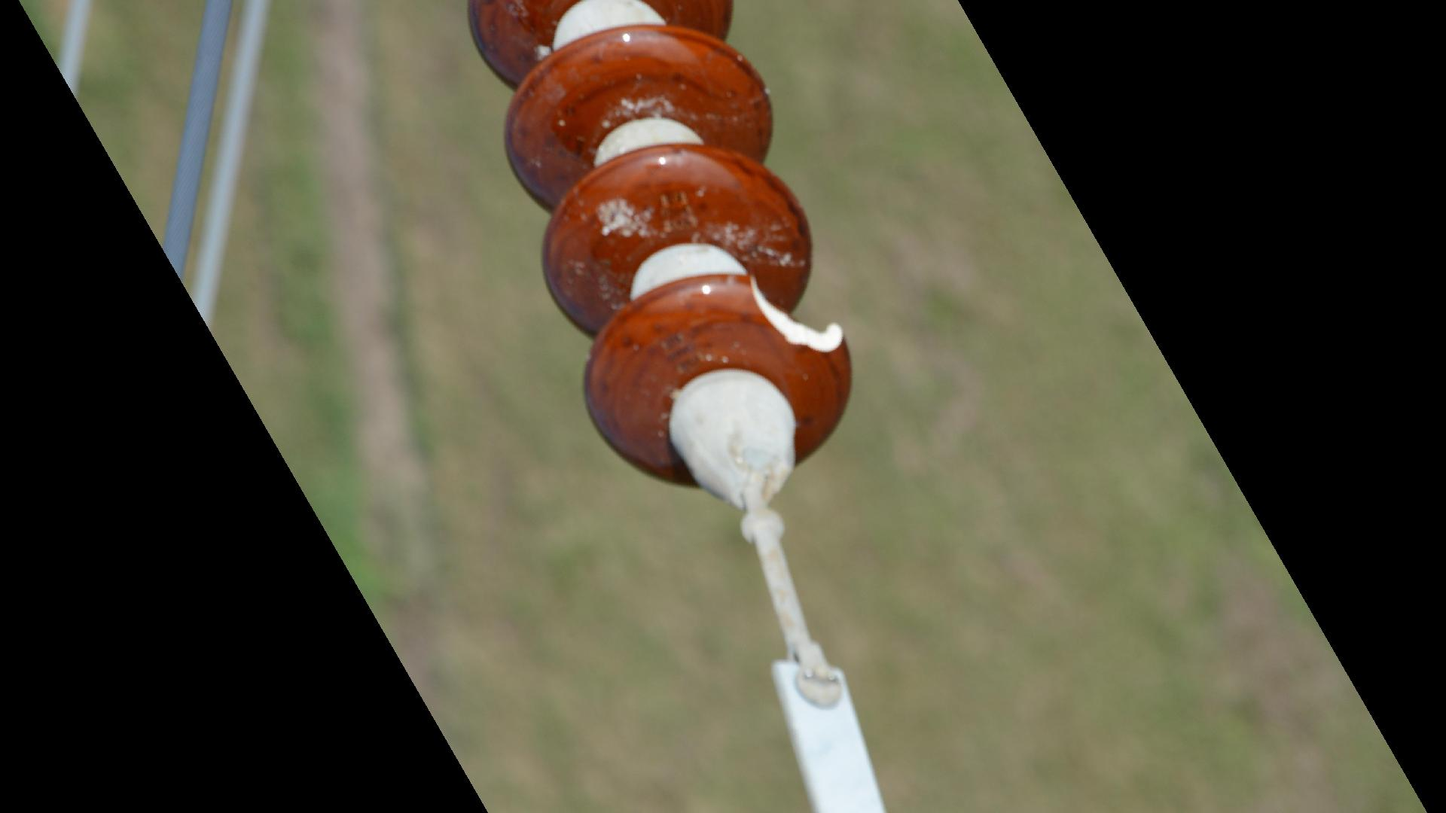insulator: (457, 1, 860, 496)
insulator_breakage: (725, 269, 859, 370)
